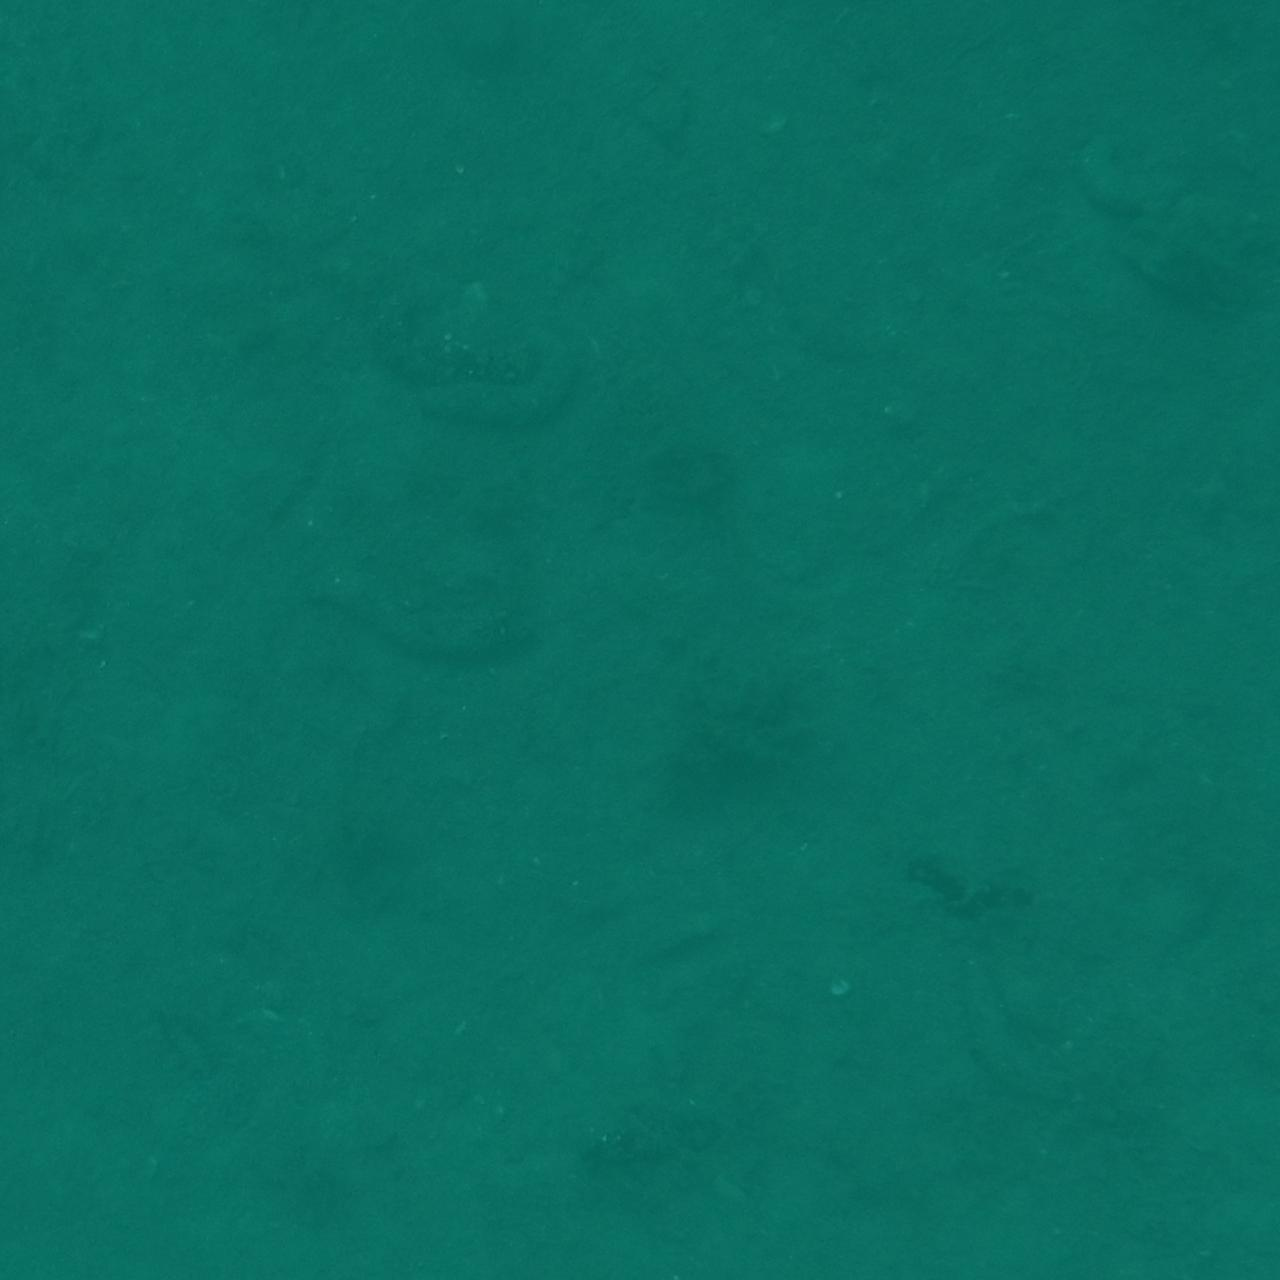Holothuria tubulosa: (291, 493, 559, 675), (960, 920, 1166, 1133), (377, 311, 604, 455), (0, 109, 103, 343), (54, 1185, 286, 1280), (1177, 949, 1280, 1143), (907, 0, 1152, 75), (1162, 554, 1280, 689), (256, 1159, 377, 1280), (554, 1224, 805, 1280), (0, 791, 63, 993), (0, 0, 125, 93), (0, 0, 222, 47), (1143, 0, 1280, 64), (0, 0, 80, 105), (0, 1088, 40, 1280)
